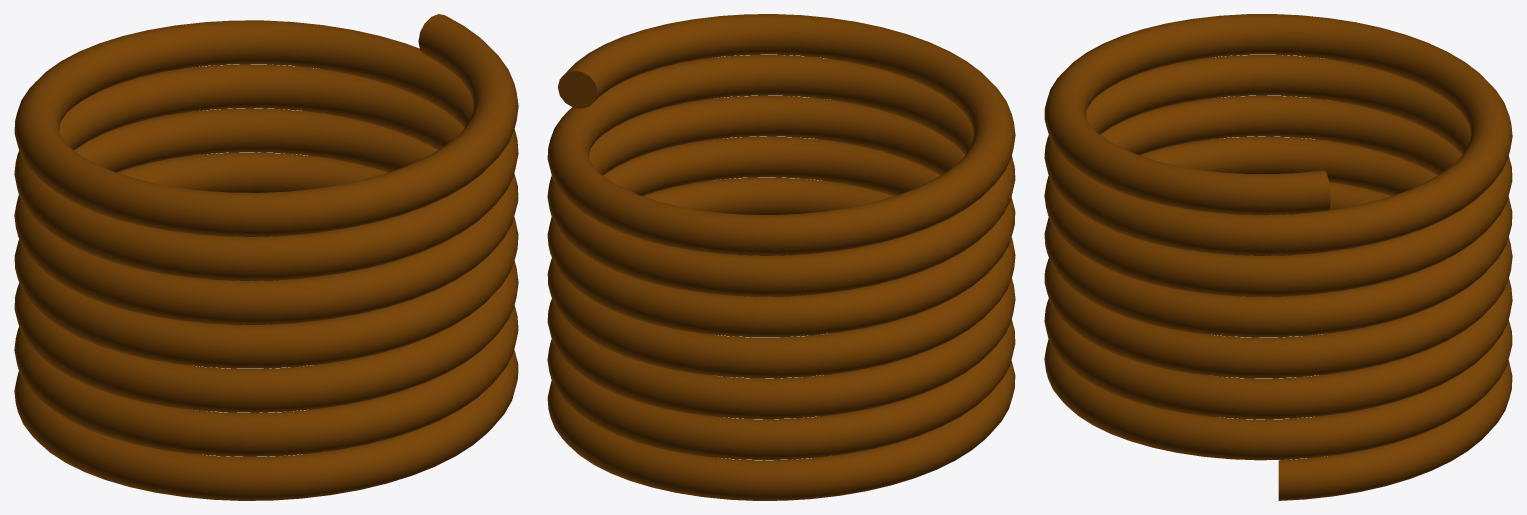
The model's file is rope.fbx.
3 views of the same model, side by side, from view 1: azimuth 30°, elevation 25°; view 2: azimuth 150°, elevation 25°; view 3: azimuth 270°, elevation 25° (orthographic). The views are drawn at different scales.
Visible parts, largest first — view 1: pHelix1; view 2: pHelix1; view 3: pHelix1.
Part boxes in pixels (x1,y1,x2,y2): pHelix1: [14, 14, 518, 500]; pHelix1: [547, 14, 1015, 500]; pHelix1: [1044, 14, 1512, 500].
Size of the model in its own units: 1.43 by 1.1 by 1.43.
